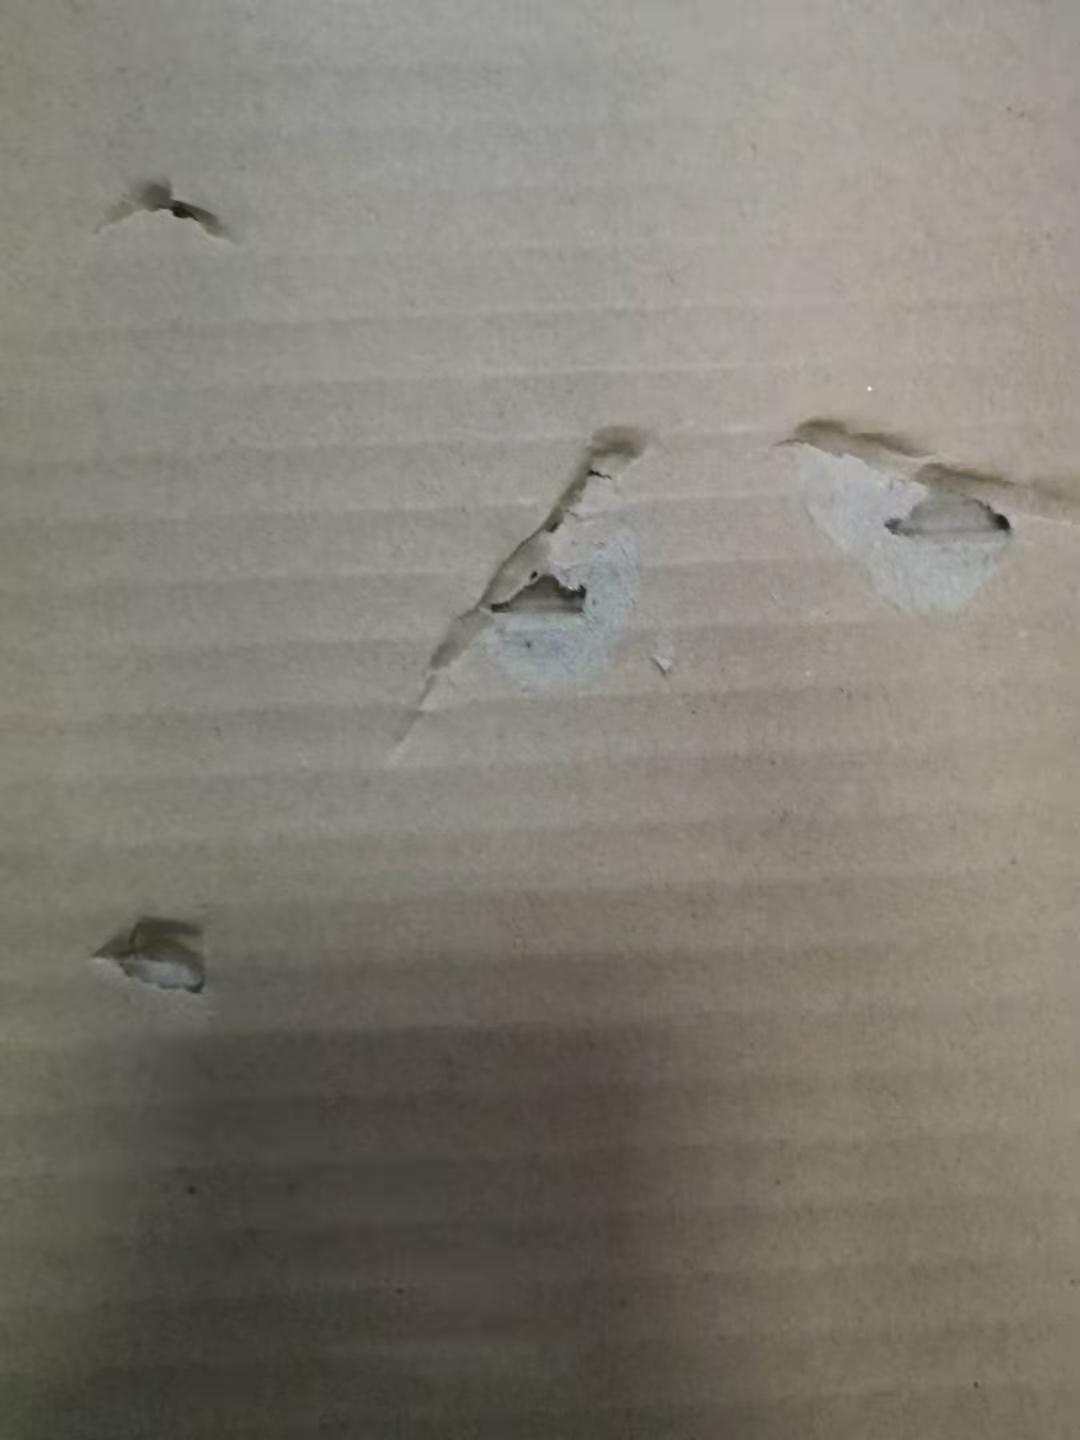defect: (345, 370, 715, 802), (754, 376, 1080, 657), (75, 879, 239, 1028), (74, 145, 265, 270)
